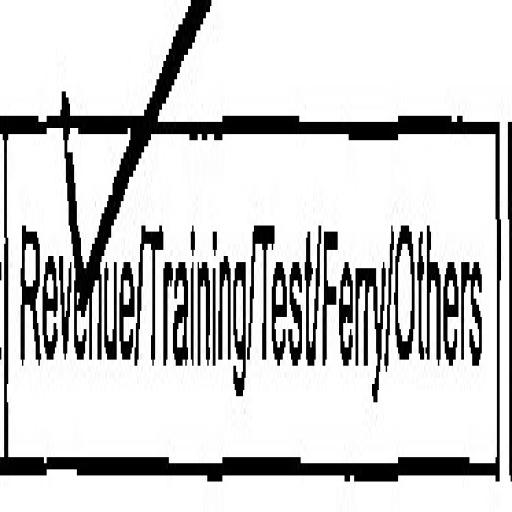check: (5, 0, 144, 512)
